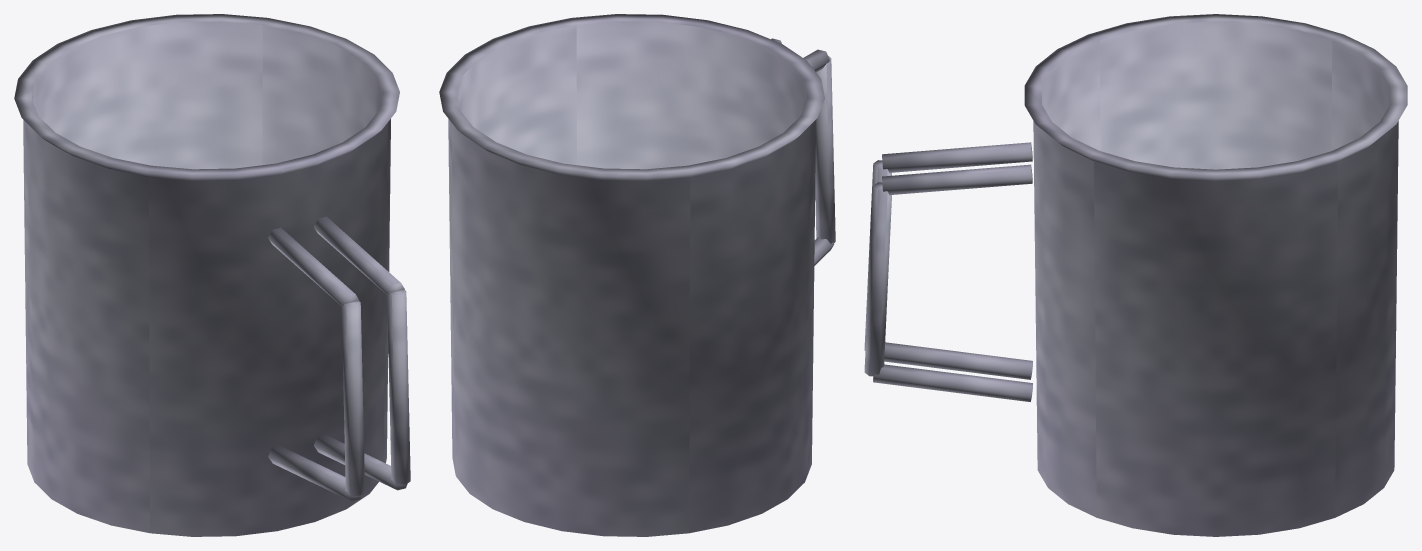
File: titanium_mug.glb
3 views of the same model, side by side, from view 1: azimuth 30°, elevation 25°; view 2: azimuth 150°, elevation 25°; view 3: azimuth 270°, elevation 25° (orthographic).
Visible parts, largest first — view 1: TitaniumMug; view 2: TitaniumMug; view 3: TitaniumMug.
Part boxes in pixels (x1,y1,x2,y2): TitaniumMug: (14, 14, 410, 536); TitaniumMug: (439, 14, 835, 536); TitaniumMug: (864, 14, 1407, 536).
Bounding box in the file's own units: 0.088 × 0.092 × 0.1239.
1 material, 1 textured.
